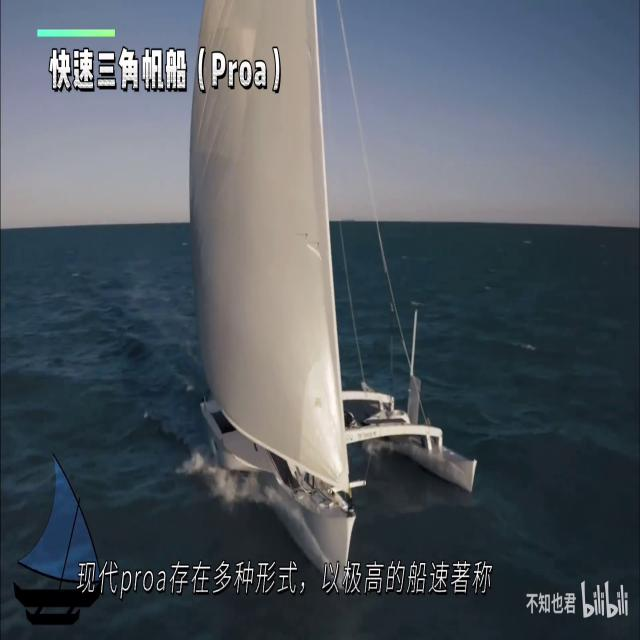sailboat: (160, 32, 467, 564)
